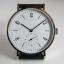watch: (5, 3, 58, 59)
